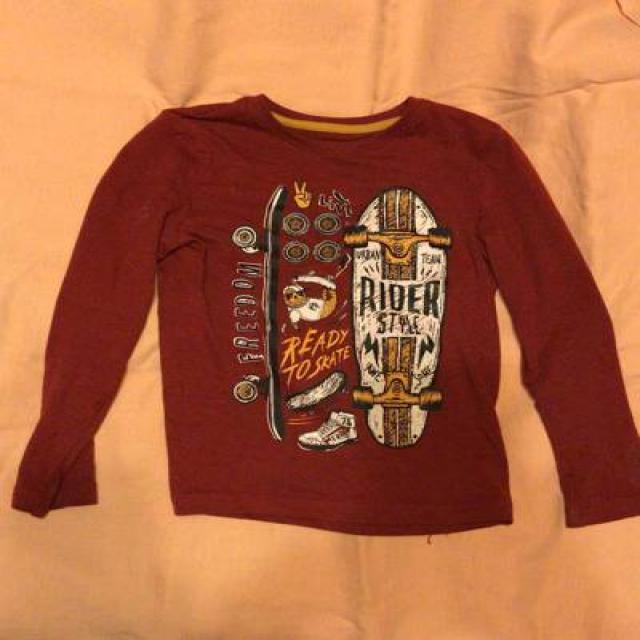Clothes -Biodegradable-: (13, 92, 640, 537)
